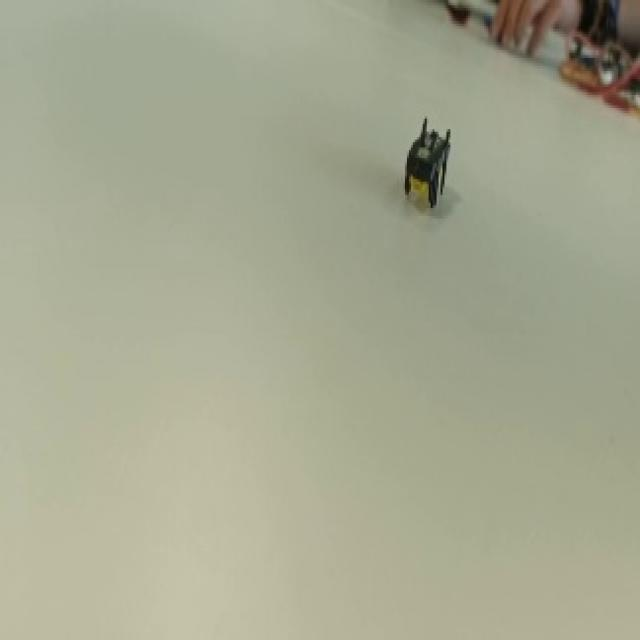6_NanoBug_GrisOscuro: (390, 105, 466, 235)
